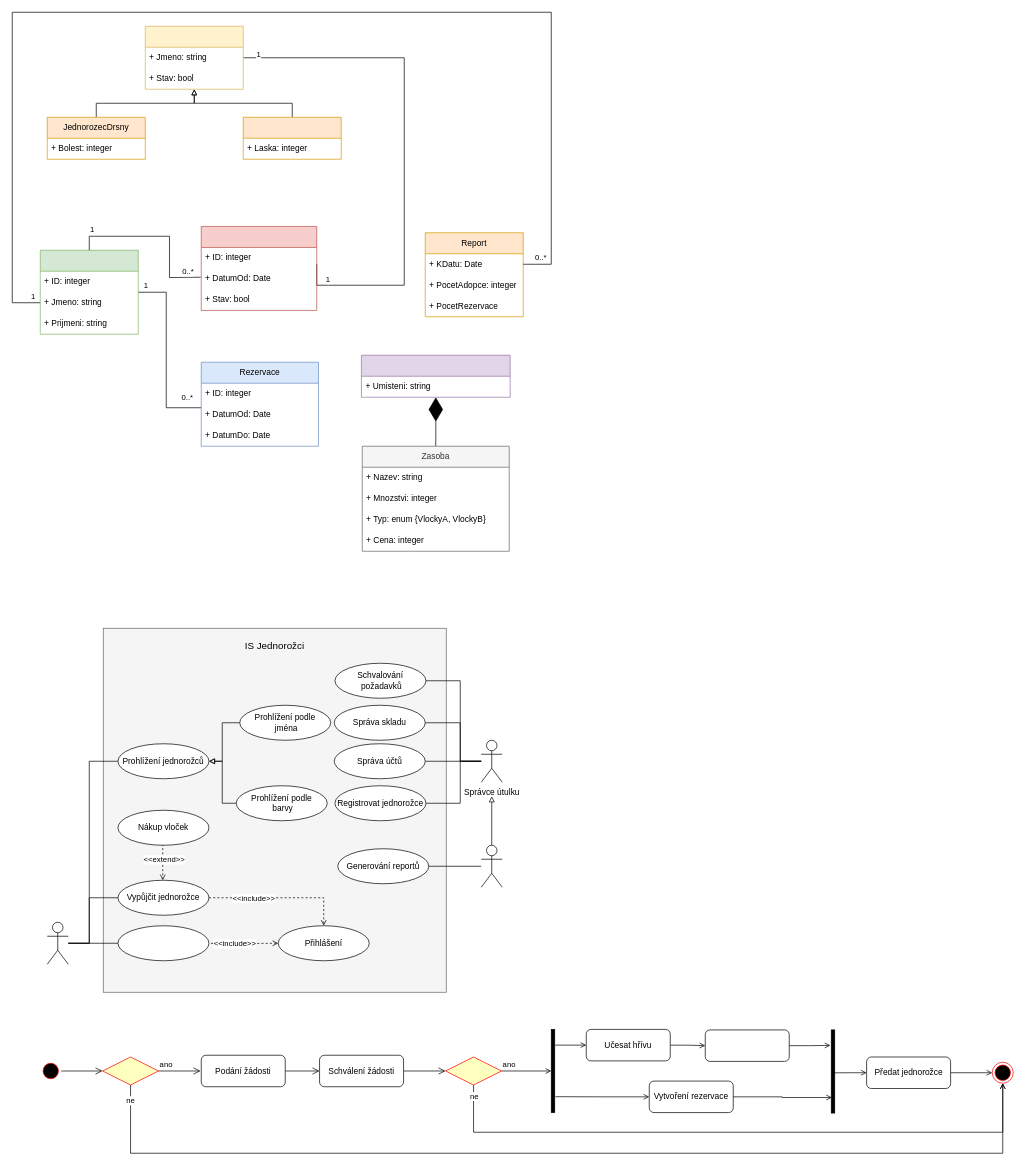
Image size: 1026x1171. Some labels were removed from this diagram. Each missing label, with the box of its shape:
Adopce: (201, 226, 317, 310)
Adoptovat jednorožce: (117, 925, 209, 961)
je přihlášen: (102, 1056, 159, 1085)
je schválena: (445, 1056, 502, 1085)
Jednorozec: (145, 26, 243, 89)
JednorozecLasky: (243, 117, 341, 159)
Městská rada: (481, 845, 502, 887)
Nakrmit: (705, 1029, 789, 1061)
Sklad: (361, 355, 510, 397)
Uzivatel: (40, 250, 138, 334)
Zájemce o adoptci: (47, 922, 68, 964)
